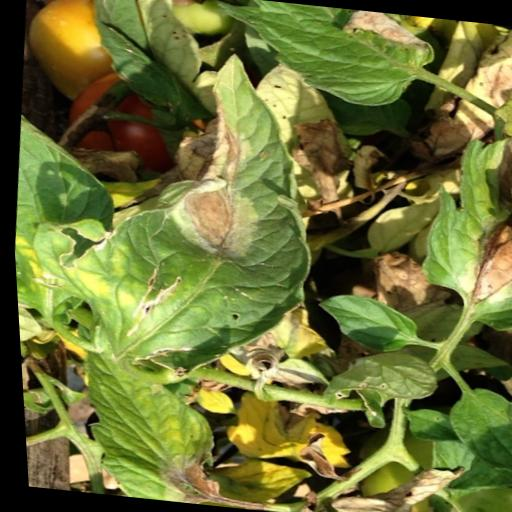Late Blight: (52, 40, 326, 404), (194, 0, 462, 114), (60, 338, 240, 504), (413, 132, 512, 342)
